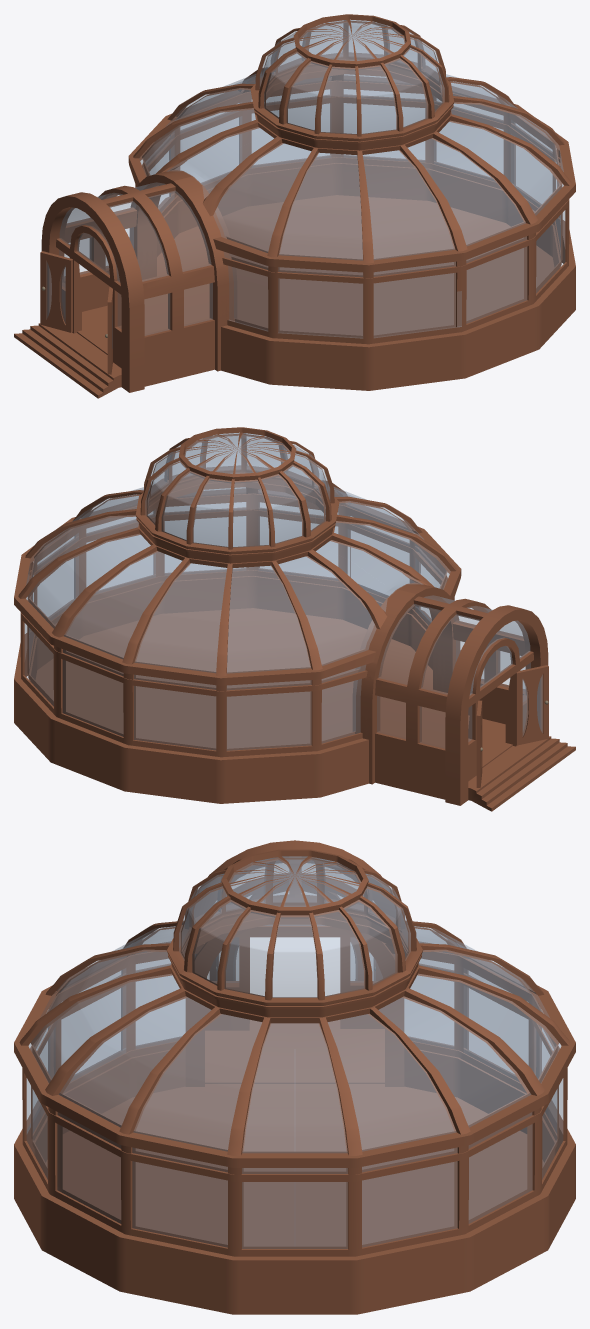
File: greenhouse.fbx
3 renders of one model, top to bottom at view 1: azimuth 30°, elevation 25°; view 2: azimuth 150°, elevation 25°; view 3: azimuth 270°, elevation 25°, orthographic. The views are drawn at different scales.
Visible parts, largest first — view 1: Plane, Cylinder, Cube.010, Cube.009, Cube.006, Cube.007, Sphere, Sphere.001; view 2: Plane, Cylinder, Cube.010, Cube.009, Cube.006, Cube.007, Sphere.001, Sphere; view 3: Plane, Cylinder, Cube.009, Cube.010, Cube.006, Sphere.001.
Part boxes in pixels (left/top/right/bottom): Plane: left=128, top=14, right=575, bottom=390; Cylinder: left=154, top=195, right=560, bottom=335; Cube.010: left=56, top=183, right=214, bottom=386; Cube.009: left=59, top=182, right=212, bottom=354; Cube.006: left=41, top=192, right=144, bottom=392; Cube.007: left=14, top=323, right=121, bottom=398; Sphere: left=40, top=251, right=72, bottom=332; Sphere.001: left=105, top=287, right=112, bottom=374; Plane: left=14, top=427, right=461, bottom=803; Cylinder: left=29, top=608, right=435, bottom=748; Cube.010: left=375, top=596, right=533, bottom=799; Cube.009: left=377, top=595, right=530, bottom=767; Cube.006: left=445, top=605, right=548, bottom=805; Cube.007: left=468, top=736, right=575, bottom=811; Sphere.001: left=516, top=665, right=548, bottom=745; Sphere: left=476, top=700, right=482, bottom=787; Plane: left=14, top=849, right=575, bottom=1314; Cylinder: left=46, top=1084, right=543, bottom=1246; Cube.009: left=205, top=925, right=384, bottom=1083; Cube.010: left=205, top=856, right=384, bottom=1030; Cube.006: left=192, top=840, right=397, bottom=918; Sphere.001: left=210, top=937, right=249, bottom=1022.
Size of the model in its own units: 965 by 492 by 776.
